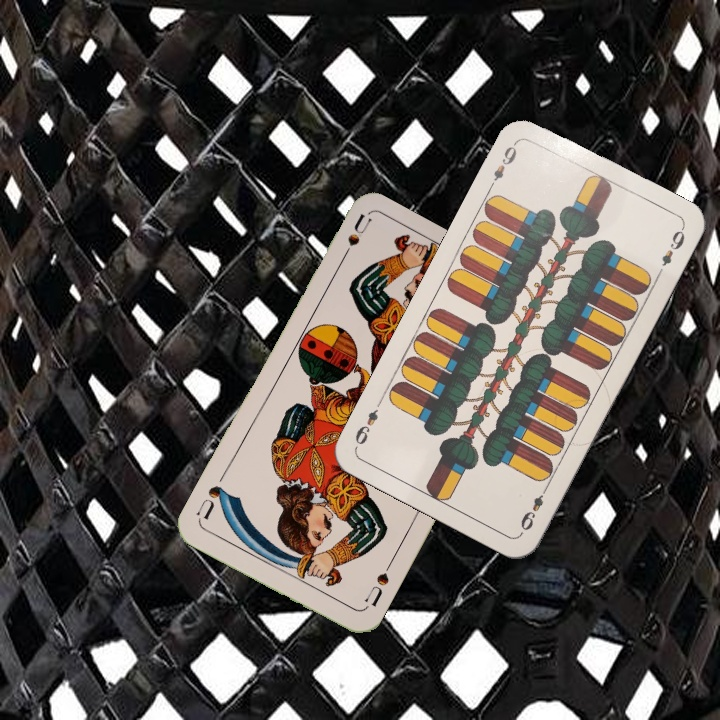E9: (485, 137, 520, 192), (516, 481, 551, 534)
SU: (335, 211, 374, 268), (360, 557, 395, 609)
